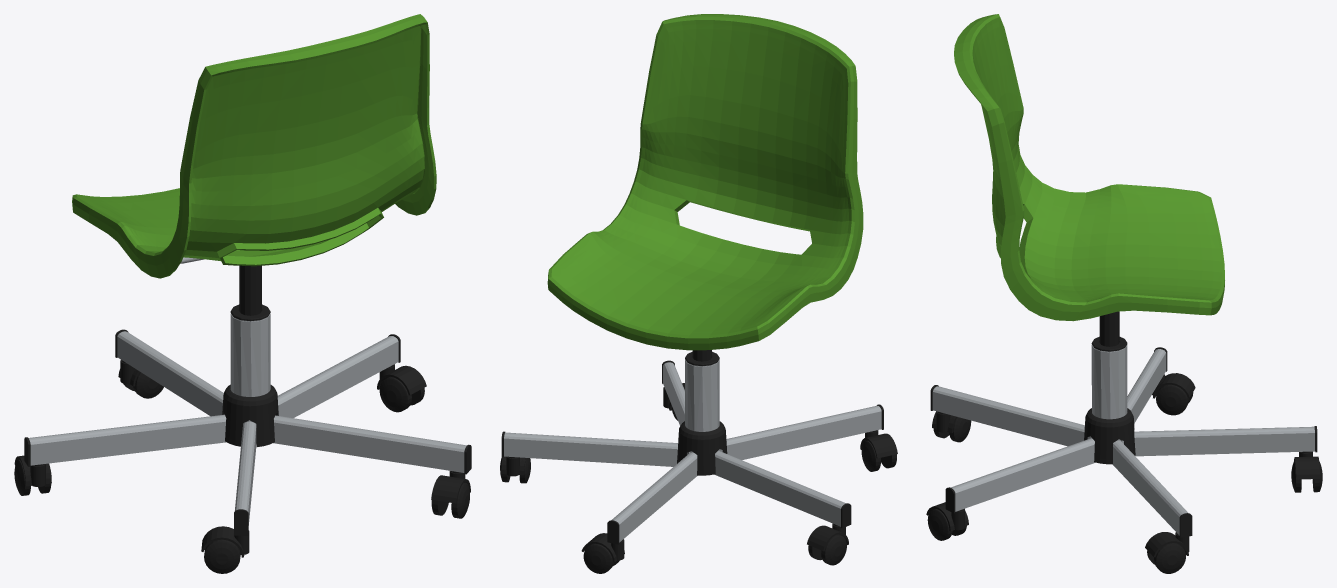
The picture shows the model from 3 angles, left to right: view 1: azimuth 30°, elevation 25°; view 2: azimuth 150°, elevation 25°; view 3: azimuth 270°, elevation 25°; orthographic projection. The views are drawn at different scales.
Parts seen in each view (by area): view 1: Mesh2 Group2 SNILLE_IKEA1 Model, Mesh8 Group6 SNILLE_IKEA1 Model, Mesh7 Group5 SNILLE_IKEA1 Model, Mesh1 Group1 SNILLE_IKEA1 Model, Mesh3 Group3 SNILLE_IKEA1 Model, Mesh20 ROULETTE4 SNILLE_IKEA1 Model, Mesh16 ROULETTE3 SNILLE_IKEA1 Model, Mesh12 ROULETTE2 SNILLE_IKEA1 Model, Mesh15 ROULETTE3 SNILLE_IKEA1 Model, Mesh18 ROULETTE4 SNILLE_IKEA1 Model, Mesh9 ROULETTE1 SNILLE_IKEA1 Model; view 2: Mesh2 Group2 SNILLE_IKEA1 Model, Mesh8 Group6 SNILLE_IKEA1 Model, Mesh7 Group5 SNILLE_IKEA1 Model, Mesh1 Group1 SNILLE_IKEA1 Model, Mesh23 ROULETTE5 SNILLE_IKEA1 Model, Mesh18 ROULETTE4 SNILLE_IKEA1 Model, Mesh9 ROULETTE1 SNILLE_IKEA1 Model, Mesh11 ROULETTE1 SNILLE_IKEA1 Model, Mesh21 ROULETTE5 SNILLE_IKEA1 Model; view 3: Mesh2 Group2 SNILLE_IKEA1 Model, Mesh8 Group6 SNILLE_IKEA1 Model, Mesh7 Group5 SNILLE_IKEA1 Model, Mesh1 Group1 SNILLE_IKEA1 Model, Mesh3 Group3 SNILLE_IKEA1 Model, Mesh10 ROULETTE1 SNILLE_IKEA1 Model, Mesh17 ROULETTE3 SNILLE_IKEA1 Model, Mesh21 ROULETTE5 SNILLE_IKEA1 Model, Mesh15 ROULETTE3 SNILLE_IKEA1 Model, Mesh14 ROULETTE2 SNILLE_IKEA1 Model, Mesh9 ROULETTE1 SNILLE_IKEA1 Model, Mesh12 ROULETTE2 SNILLE_IKEA1 Model.
Boxes of the visible parts, left/top/right/bottom form: Mesh2 Group2 SNILLE_IKEA1 Model: left=72, top=14, right=436, bottom=278; Mesh8 Group6 SNILLE_IKEA1 Model: left=24, top=329, right=471, bottom=535; Mesh7 Group5 SNILLE_IKEA1 Model: left=230, top=313, right=270, bottom=396; Mesh1 Group1 SNILLE_IKEA1 Model: left=222, top=384, right=278, bottom=446; Mesh3 Group3 SNILLE_IKEA1 Model: left=230, top=265, right=270, bottom=321; Mesh20 ROULETTE4 SNILLE_IKEA1 Model: left=204, top=539, right=240, bottom=573; Mesh16 ROULETTE3 SNILLE_IKEA1 Model: left=379, top=376, right=411, bottom=412; Mesh12 ROULETTE2 SNILLE_IKEA1 Model: left=431, top=471, right=470, bottom=503; Mesh15 ROULETTE3 SNILLE_IKEA1 Model: left=377, top=364, right=426, bottom=395; Mesh18 ROULETTE4 SNILLE_IKEA1 Model: left=201, top=526, right=249, bottom=557; Mesh9 ROULETTE1 SNILLE_IKEA1 Model: left=14, top=455, right=51, bottom=486; Mesh2 Group2 SNILLE_IKEA1 Model: left=547, top=14, right=863, bottom=350; Mesh8 Group6 SNILLE_IKEA1 Model: left=501, top=360, right=883, bottom=544; Mesh7 Group5 SNILLE_IKEA1 Model: left=685, top=359, right=719, bottom=431; Mesh1 Group1 SNILLE_IKEA1 Model: left=677, top=421, right=727, bottom=475; Mesh23 ROULETTE5 SNILLE_IKEA1 Model: left=583, top=543, right=613, bottom=573; Mesh18 ROULETTE4 SNILLE_IKEA1 Model: left=860, top=430, right=897, bottom=458; Mesh9 ROULETTE1 SNILLE_IKEA1 Model: left=807, top=523, right=848, bottom=551; Mesh11 ROULETTE1 SNILLE_IKEA1 Model: left=821, top=534, right=846, bottom=565; Mesh21 ROULETTE5 SNILLE_IKEA1 Model: left=581, top=533, right=624, bottom=562; Mesh2 Group2 SNILLE_IKEA1 Model: left=954, top=14, right=1224, bottom=321; Mesh8 Group6 SNILLE_IKEA1 Model: left=930, top=347, right=1317, bottom=537; Mesh7 Group5 SNILLE_IKEA1 Model: left=1091, top=345, right=1127, bottom=419; Mesh1 Group1 SNILLE_IKEA1 Model: left=1084, top=408, right=1135, bottom=464; Mesh3 Group3 SNILLE_IKEA1 Model: left=1091, top=311, right=1127, bottom=351; Mesh10 ROULETTE1 SNILLE_IKEA1 Model: left=1156, top=384, right=1188, bottom=415; Mesh17 ROULETTE3 SNILLE_IKEA1 Model: left=1154, top=543, right=1185, bottom=573; Mesh21 ROULETTE5 SNILLE_IKEA1 Model: left=1294, top=451, right=1319, bottom=479; Mesh15 ROULETTE3 SNILLE_IKEA1 Model: left=1145, top=532, right=1189, bottom=557; Mesh14 ROULETTE2 SNILLE_IKEA1 Model: left=927, top=509, right=952, bottom=540; Mesh9 ROULETTE1 SNILLE_IKEA1 Model: left=1152, top=373, right=1195, bottom=398; Mesh12 ROULETTE2 SNILLE_IKEA1 Model: left=926, top=502, right=968, bottom=531.
Bounding box in the file's own units: 0.5971 × 0.7048 × 0.5772.
